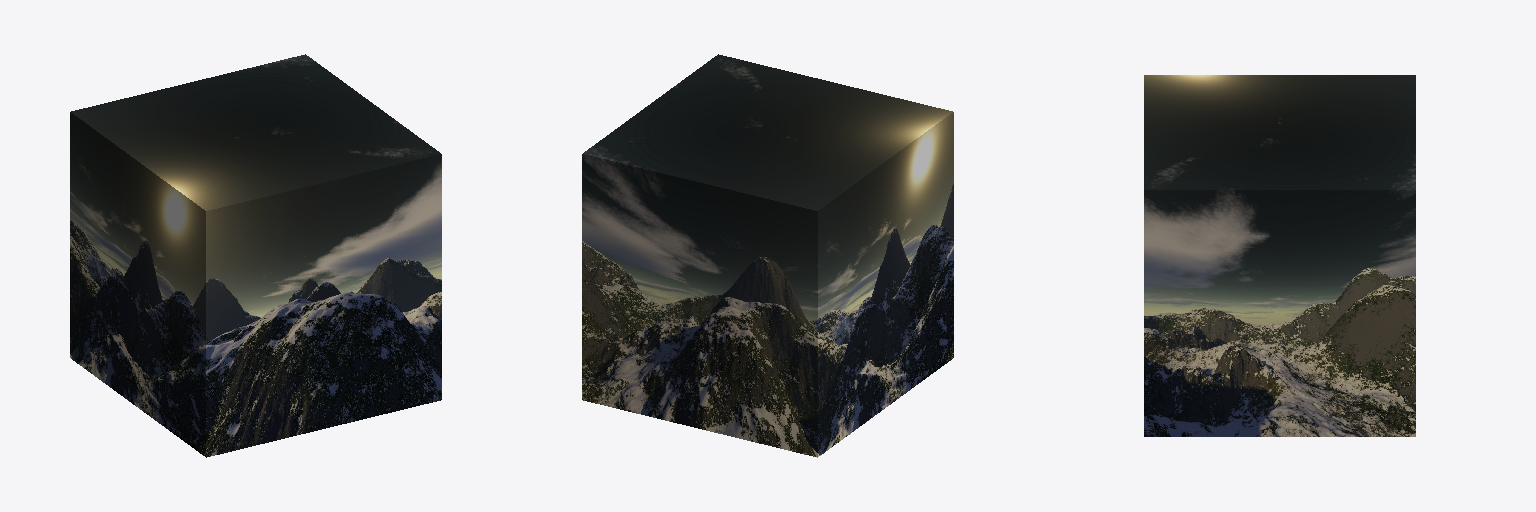
3 renders of one model, left to right at view 1: azimuth 30°, elevation 25°; view 2: azimuth 150°, elevation 25°; view 3: azimuth 270°, elevation 25°, orthographic.
Parts seen in each view (by area): view 1: Object2, Object1, Object5; view 2: Object4, Object1, Object5; view 3: Object3, Object5.
Part boxes in pixels (x1,y1,x2,y2): Object2: (206,154,441,457); Object1: (70,112,205,456); Object5: (71,54,440,210); Object4: (582,154,817,457); Object1: (818,112,953,456); Object5: (583,54,952,210); Object3: (1144,190,1415,436); Object5: (1144,75,1415,189).
Bounding box in the file's own units: 30 × 30 × 30.
Materials: 6 (6 with a texture image).